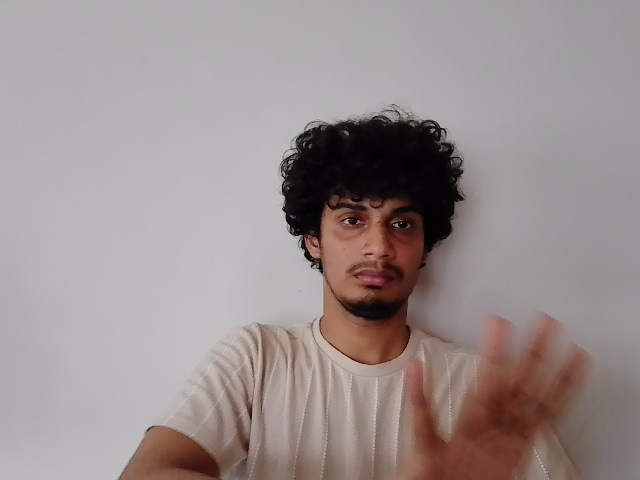goodbye: (403, 306, 596, 480)
